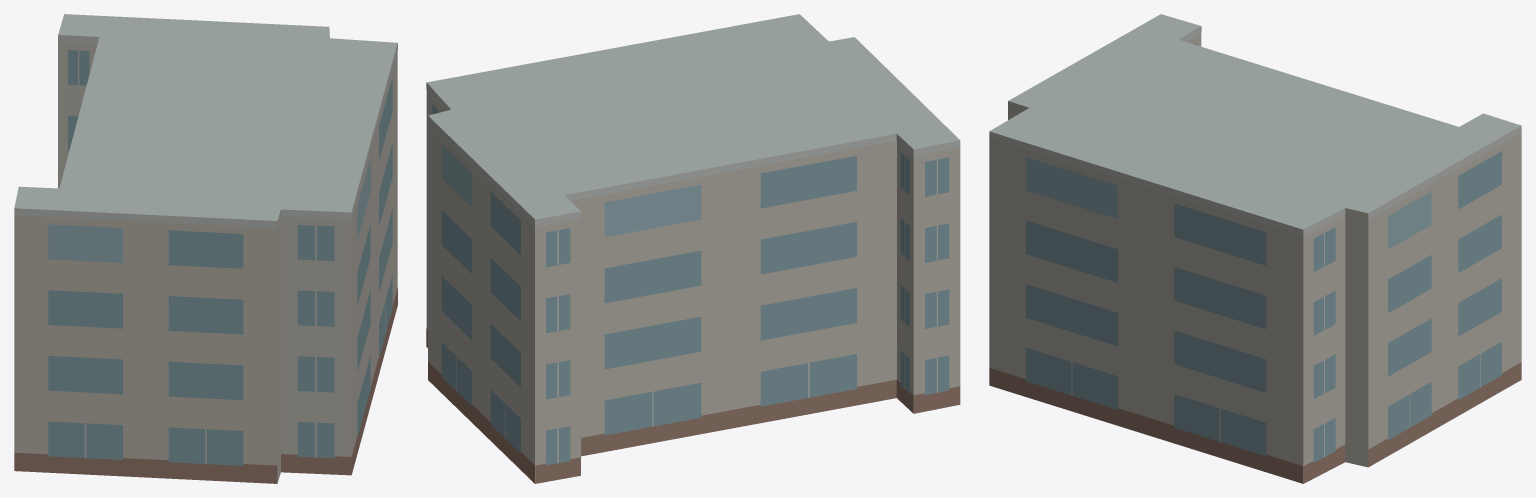
File: survey-upis-32638145.glb
3 views of the same model, side by side, from view 1: azimuth 30°, elevation 25°; view 2: azimuth 150°, elevation 25°; view 3: azimuth 270°, elevation 25° (orthographic). The views are drawn at different scales.
Visible parts, largest first — view 1: survey-upis-32638145.tmp; view 2: survey-upis-32638145.tmp; view 3: survey-upis-32638145.tmp.
Part boxes in pixels (box(x1,y1,x2,y2)): survey-upis-32638145.tmp: box(14, 14, 397, 483); survey-upis-32638145.tmp: box(426, 14, 960, 483); survey-upis-32638145.tmp: box(989, 14, 1521, 483).
Bounding box in the file's own units: 16.57 × 9.1 × 17.28.
